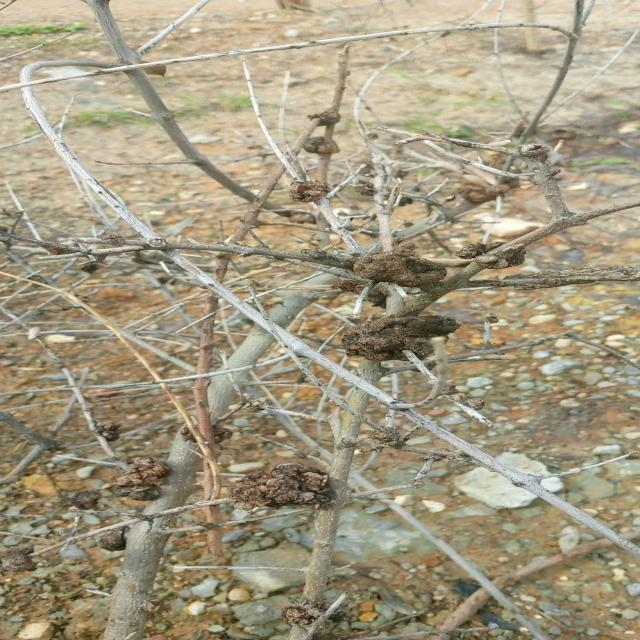Tuberculosis: (340, 315, 460, 362), (340, 247, 446, 294), (230, 463, 331, 510), (111, 458, 171, 501), (288, 179, 330, 205), (0, 546, 36, 576), (87, 528, 128, 553), (456, 242, 505, 261), (302, 136, 339, 161), (485, 249, 524, 269), (308, 108, 339, 130), (94, 421, 121, 443)
